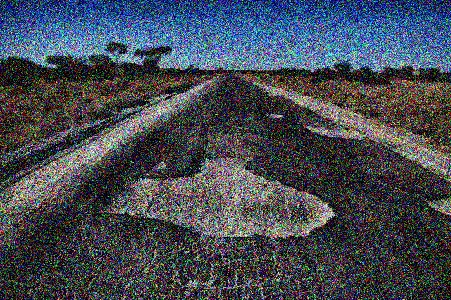pothole: (92, 154, 339, 239), (303, 120, 365, 141), (419, 192, 450, 215), (147, 160, 168, 171), (261, 110, 284, 118)
